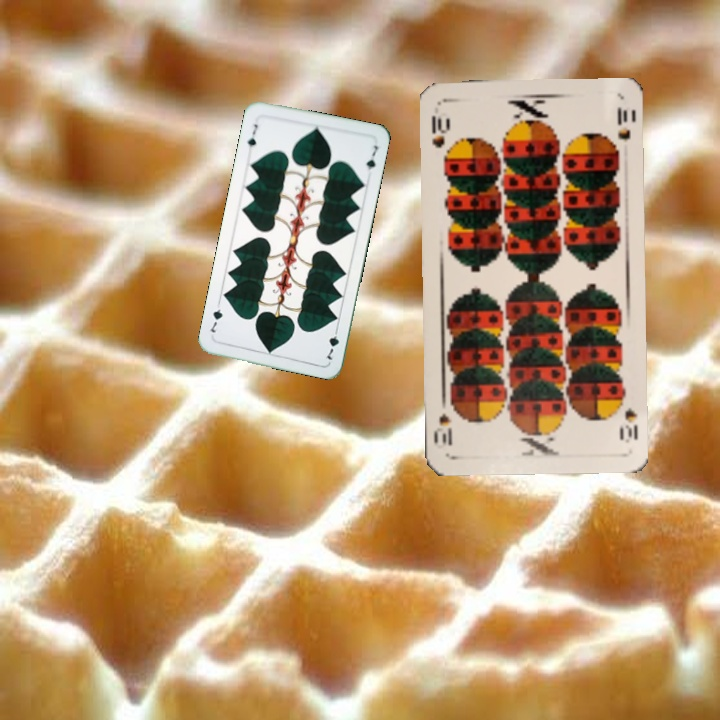G7: (321, 323, 342, 362), (244, 120, 260, 150)
S10: (614, 390, 640, 445), (427, 111, 451, 150)
